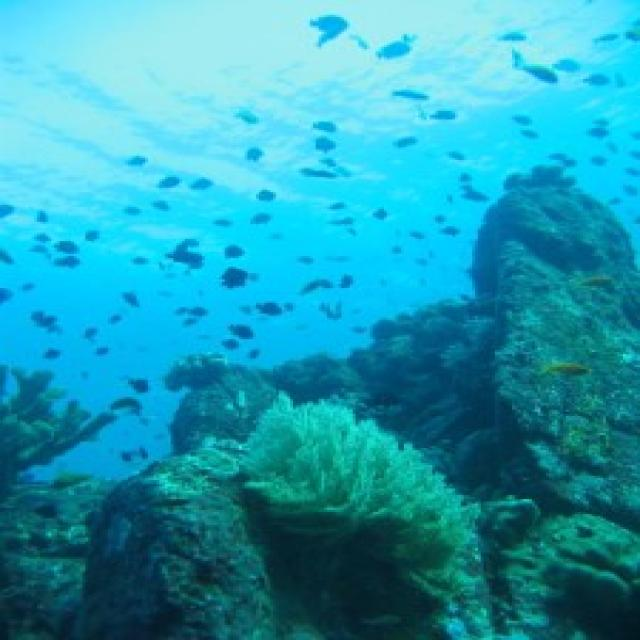Healthy: (473, 167, 638, 517), (246, 396, 479, 637), (81, 445, 271, 639), (504, 515, 638, 639)
